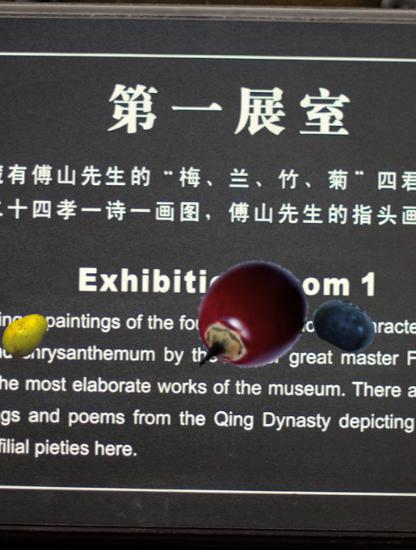Blueberry: (312, 292, 378, 358)
Pear: (0, 308, 54, 362)
Tamarillo: (188, 257, 312, 381)
